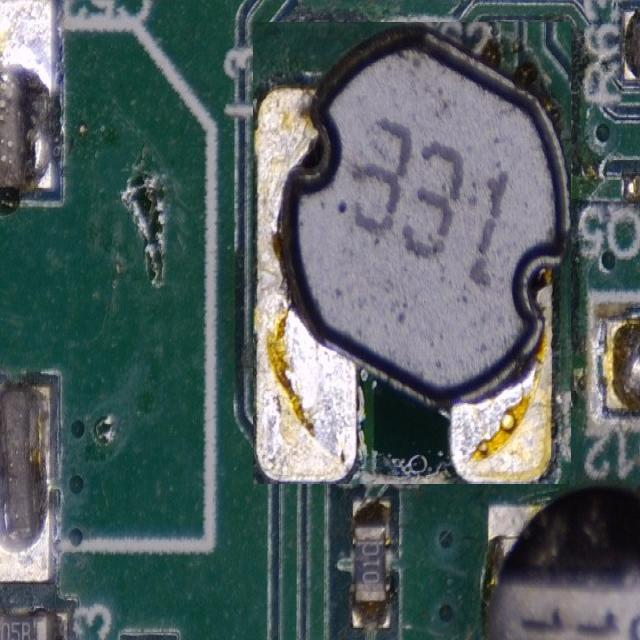Incorrect_installation: (253, 23, 571, 483)
